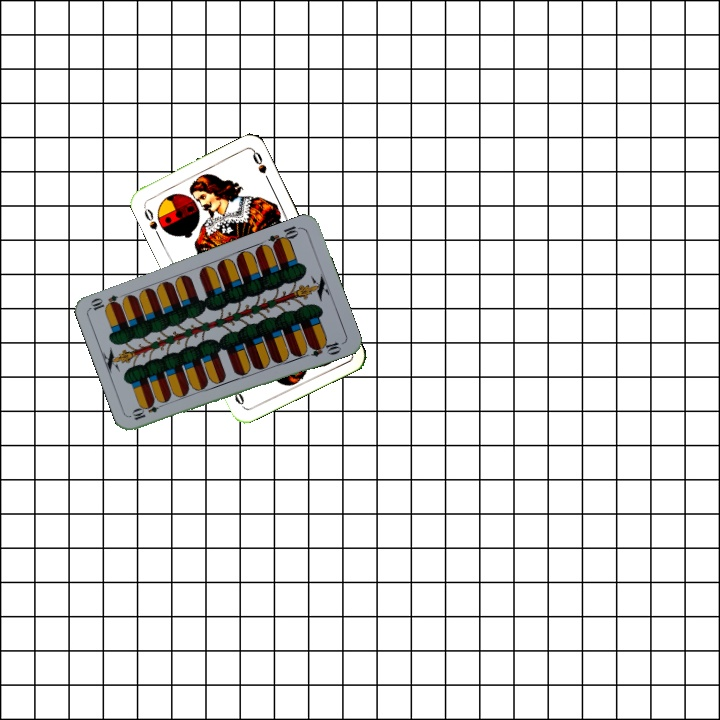E10: (264, 222, 303, 250), (128, 398, 168, 423)
SO: (139, 201, 160, 232)
